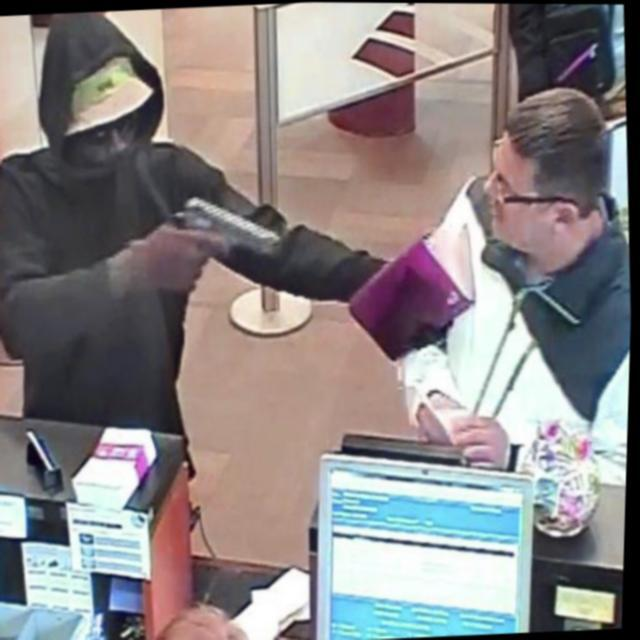weapon: (154, 168, 292, 286)
